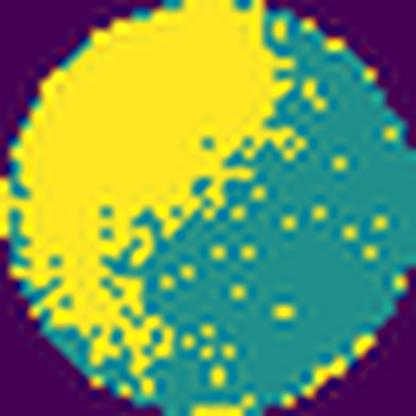Edge-Loc: (0, 0, 295, 368)
